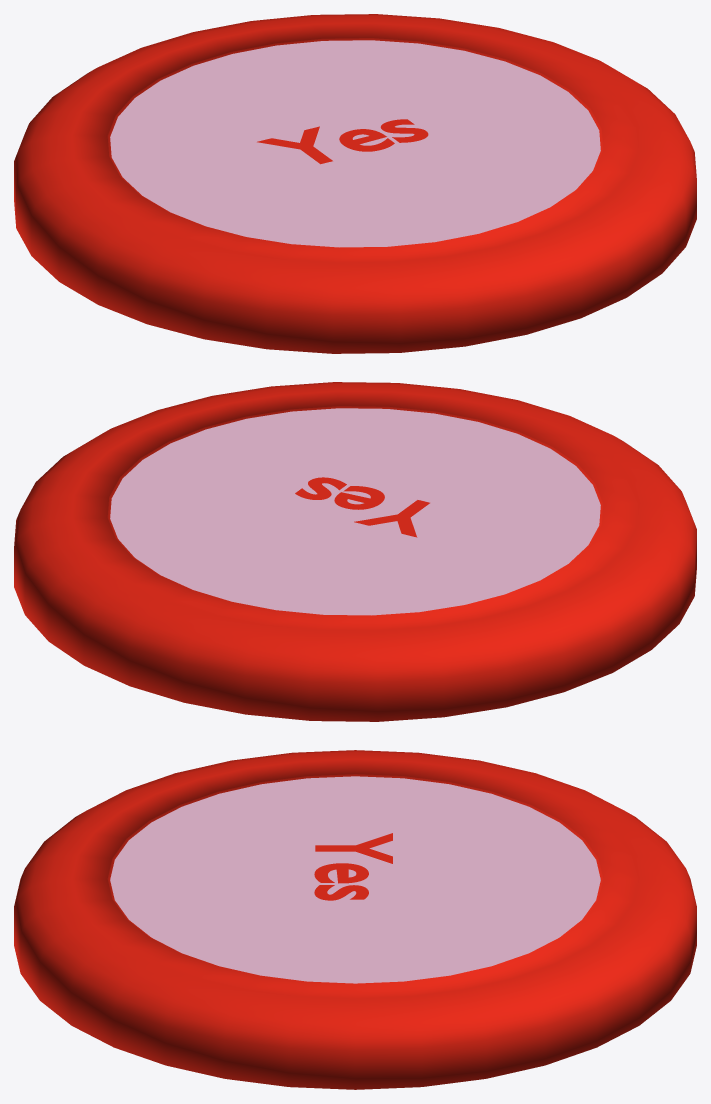
File: Yes丸ボタン.fbx
3 renders of one model, top to bottom at view 1: azimuth 30°, elevation 25°; view 2: azimuth 150°, elevation 25°; view 3: azimuth 270°, elevation 25°, orthographic.
Parts seen in each view (by area): view 1: 円柱, 円, テキスト; view 2: 円柱, 円, テキスト; view 3: 円柱, 円, テキスト.
Boxes of the visible parts, x1,y1,x2,y2 form: 円柱: [14, 14, 696, 353]; 円: [110, 40, 600, 247]; テキスト: [257, 119, 428, 164]; 円柱: [14, 382, 696, 721]; 円: [110, 408, 600, 615]; テキスト: [295, 477, 429, 537]; 円柱: [14, 750, 696, 1089]; 円: [110, 776, 600, 983]; テキスト: [314, 833, 392, 900].
Size of the model in its own units: 200 by 23.69 by 200.
